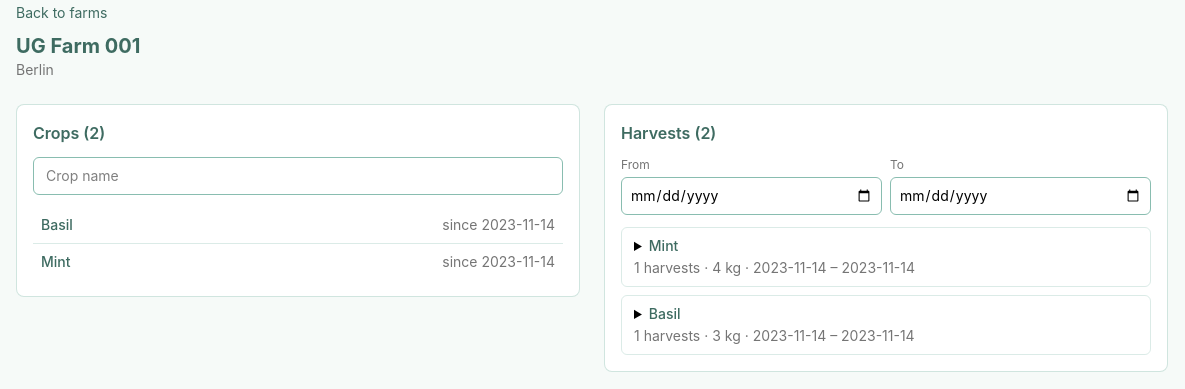
Test: FarmDetail › filters crops and harvests by crop name in the browser
The width and height of the screenshot is (1185, 389).
Expected: the button "Mint since 2023-11-14" is shown, [33,244,563,280]
Type "Basil" into the field with placeholder "Crop name" at (298, 176), box [33,157,563,195]
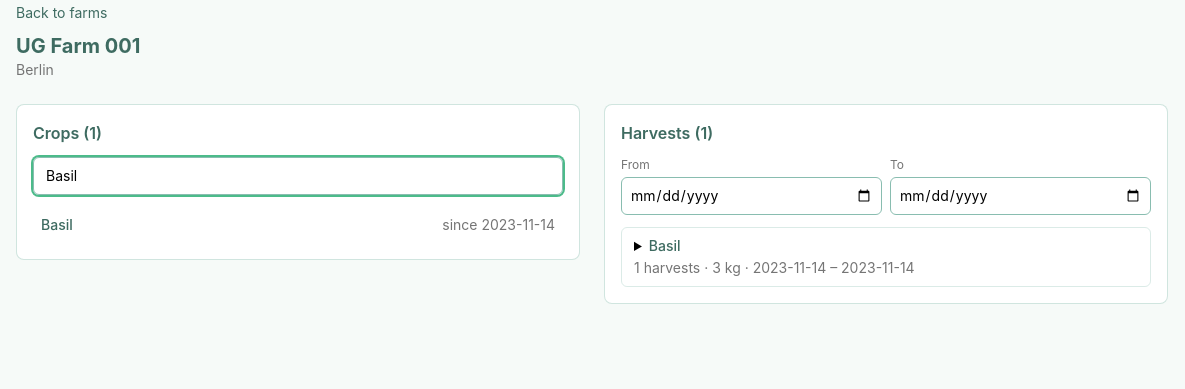
Expected: the button "Basil since 2023-11-14" is shown, [33,207,563,243]
Result: the button "Mint" is gone
Result: the heading "1 harvests · 4 kg" is gone
